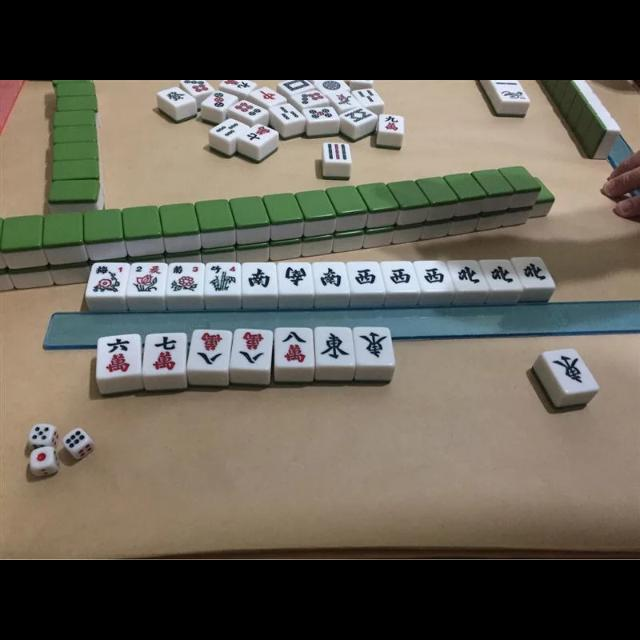c6: (98, 336, 140, 376)
c7: (142, 334, 185, 374)
c8: (232, 328, 272, 368), (190, 329, 230, 368), (274, 328, 314, 366)
f1: (92, 263, 128, 277)
f3: (170, 264, 204, 276)
f4: (206, 263, 240, 275)
s2: (130, 262, 166, 276)
we: (548, 351, 592, 392), (315, 327, 353, 365), (356, 328, 392, 364)
wn: (483, 260, 517, 290), (451, 260, 484, 290), (516, 258, 550, 286)
ws: (279, 262, 313, 294), (243, 263, 277, 293), (314, 263, 348, 293)
ww: (348, 262, 382, 292), (384, 262, 418, 292), (416, 261, 449, 291)
